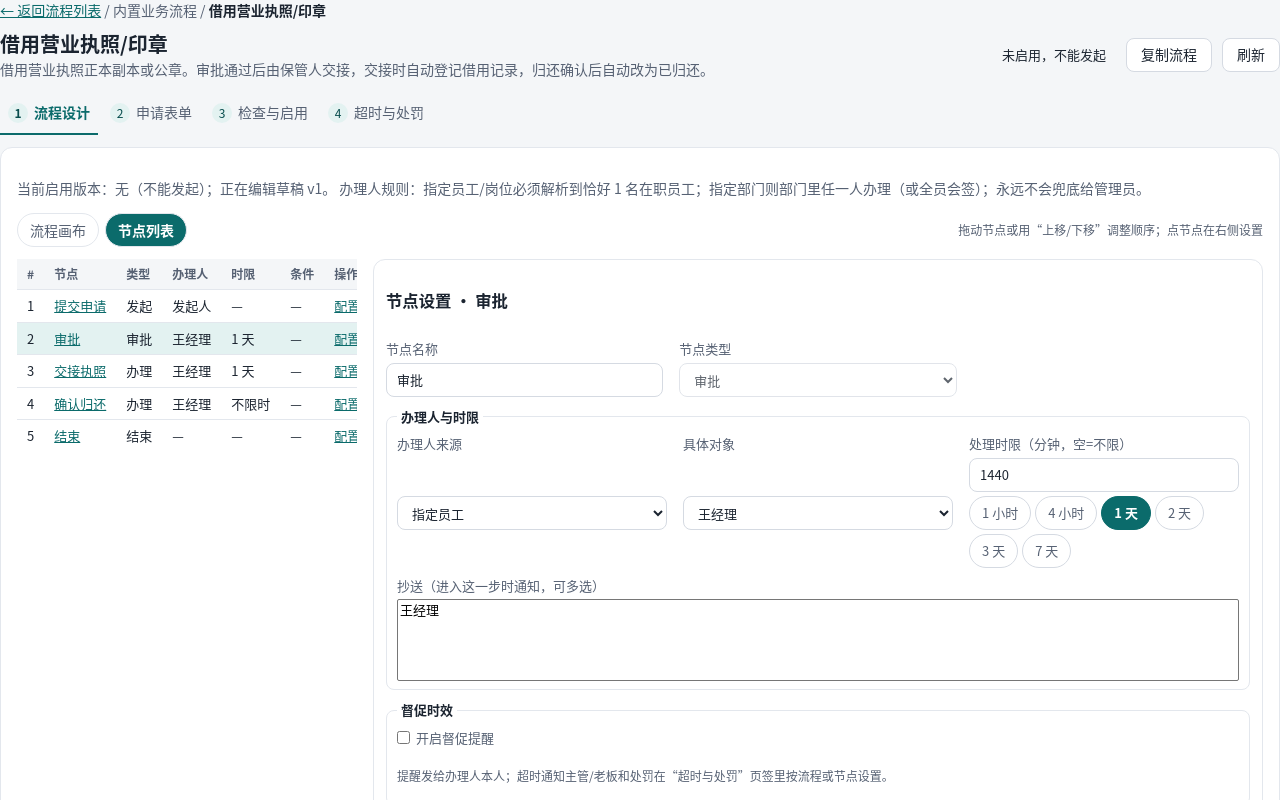
流程设计器 › 内置流程的申请表单只读，并提示用复制得到可改版本
The image size is (1280, 800).
Click the tab "2 申请表单": (151,114) [102,92,200,135]
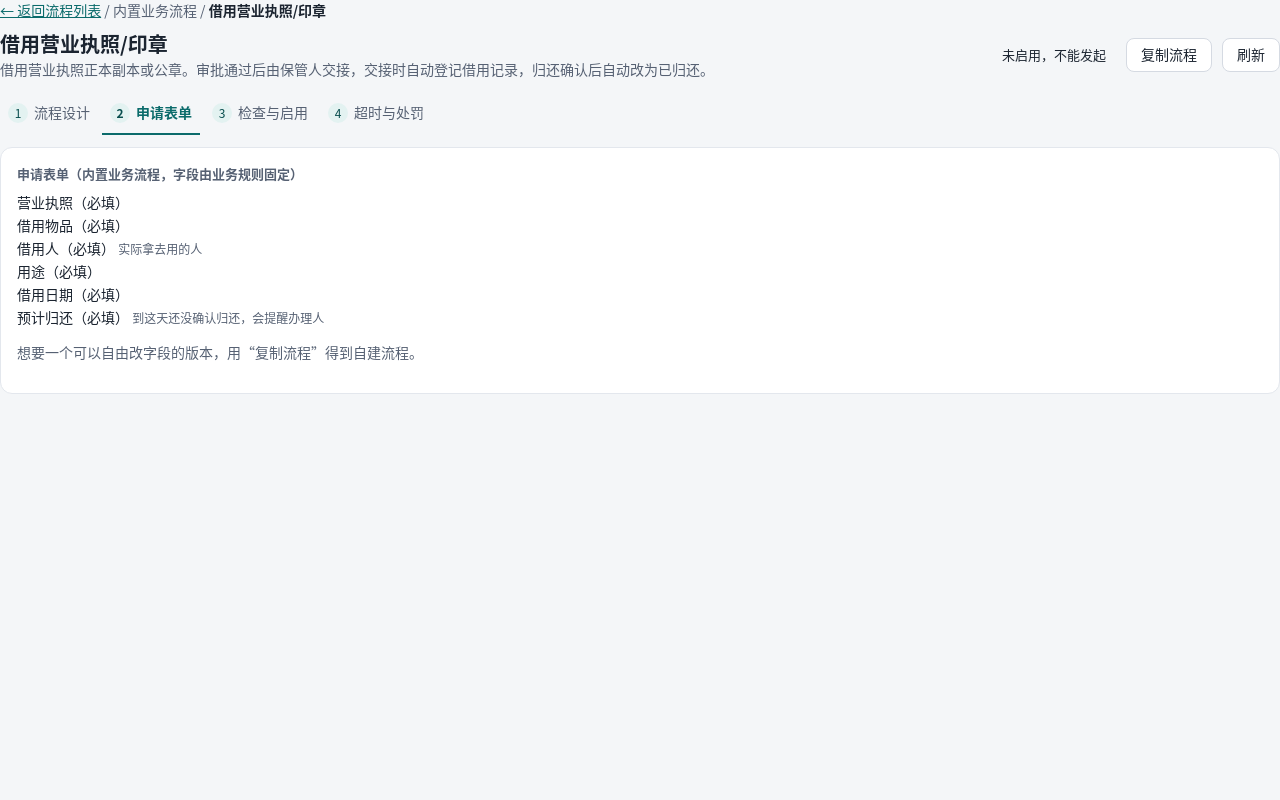
Now the text "想要一个可以自由改字段的版本，用“复制流程”得到自建流程。" is shown, box [17,342,423,362]
